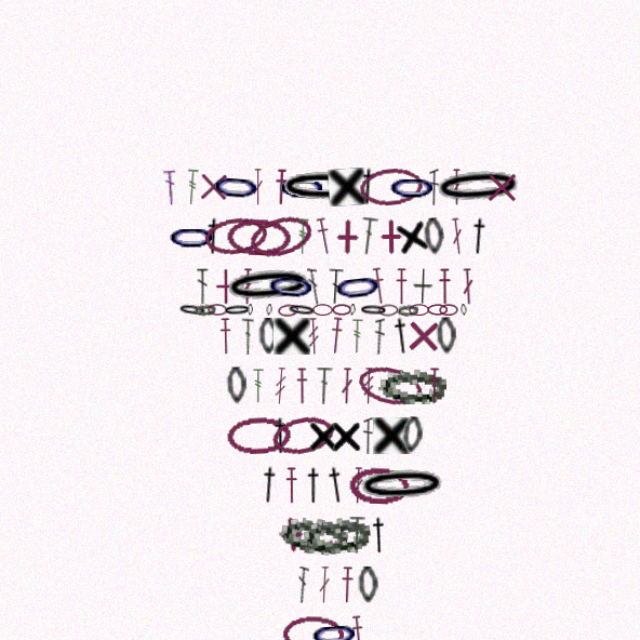chain: (214, 273, 301, 314), (408, 182, 495, 222), (338, 459, 424, 497), (236, 223, 301, 272), (337, 363, 402, 409), (266, 185, 351, 219), (258, 410, 320, 454), (266, 504, 332, 544), (287, 504, 353, 544), (196, 227, 259, 268), (340, 182, 401, 221), (218, 413, 278, 450), (218, 230, 278, 266), (359, 369, 422, 403), (331, 460, 389, 496), (270, 598, 327, 633), (315, 275, 365, 313), (294, 597, 343, 634), (254, 275, 303, 312), (203, 183, 252, 220), (163, 231, 210, 265), (265, 185, 312, 219), (367, 185, 414, 219), (380, 414, 401, 449), (400, 230, 421, 265), (218, 368, 238, 403), (412, 322, 432, 357), (340, 553, 359, 587), (248, 323, 267, 357), (173, 309, 201, 323), (274, 309, 302, 323), (215, 310, 242, 322), (341, 310, 368, 322), (188, 309, 209, 322), (275, 631, 303, 640), (376, 310, 396, 322), (266, 310, 285, 322), (359, 310, 377, 322), (298, 310, 317, 321), (387, 310, 406, 321), (404, 310, 423, 321), (201, 310, 219, 321), (316, 310, 334, 321), (415, 310, 433, 321), (325, 632, 345, 640), (293, 632, 309, 640), (304, 632, 320, 640), (316, 632, 332, 640), (255, 310, 261, 321), (332, 310, 338, 321), (435, 310, 441, 321), (238, 310, 243, 321)
double: (341, 230, 359, 265), (301, 369, 317, 403), (332, 507, 347, 541), (312, 277, 327, 311), (425, 230, 439, 265), (282, 553, 295, 587), (231, 323, 244, 357), (160, 185, 173, 219), (303, 553, 315, 587), (334, 461, 346, 495), (324, 369, 336, 403), (232, 277, 244, 311), (293, 277, 305, 311), (436, 277, 448, 311), (191, 277, 202, 311), (242, 185, 253, 219), (426, 185, 437, 219), (355, 323, 365, 357), (345, 415, 354, 449), (406, 185, 415, 219)
half_double: (247, 460, 269, 495), (309, 460, 331, 495), (441, 230, 463, 265), (370, 322, 391, 357), (196, 230, 217, 265), (339, 184, 360, 219), (289, 461, 309, 495), (299, 230, 318, 265), (350, 507, 369, 541), (259, 415, 278, 449), (351, 276, 368, 311), (332, 598, 348, 633), (312, 322, 328, 357), (323, 553, 337, 587), (262, 185, 276, 219), (272, 461, 285, 495), (282, 369, 295, 403), (404, 369, 417, 403), (211, 323, 224, 357), (374, 277, 387, 311), (414, 277, 427, 311)
single: (372, 228, 409, 267), (260, 505, 297, 542), (312, 184, 348, 220), (383, 322, 418, 357), (189, 184, 224, 219), (354, 415, 388, 449), (262, 323, 296, 357), (201, 277, 235, 311), (313, 231, 347, 265), (354, 231, 388, 265), (456, 185, 490, 219), (293, 415, 324, 449), (314, 415, 345, 449), (391, 277, 410, 311)
treble: (180, 185, 194, 219), (262, 369, 275, 403), (333, 323, 346, 357), (242, 369, 254, 403), (344, 369, 356, 403), (293, 323, 305, 357), (283, 231, 295, 265)
